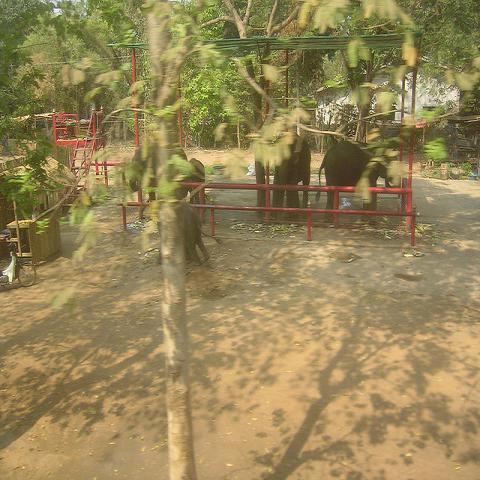motorcycle: (0, 238, 36, 289)
